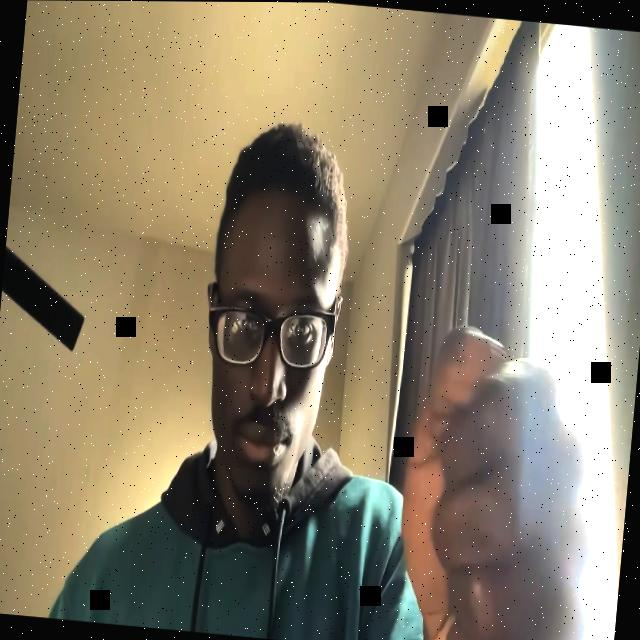Rock: (390, 320, 614, 640)
